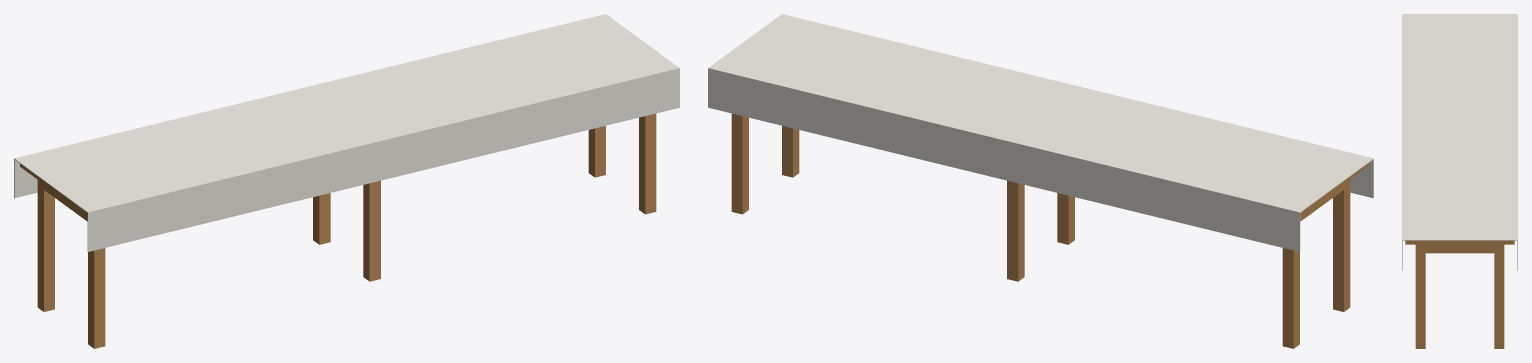
The picture shows the model from 3 angles, left to right: view 1: azimuth 30°, elevation 25°; view 2: azimuth 150°, elevation 25°; view 3: azimuth 270°, elevation 25°; orthographic projection. The views are drawn at different scales.
Visible parts, largest first — view 1: parametric-variant-table-2nd-pub-de2fb1fbe3a513f5dbfa; view 2: parametric-variant-table-2nd-pub-de2fb1fbe3a513f5dbfa; view 3: parametric-variant-table-2nd-pub-de2fb1fbe3a513f5dbfa.
Boxes of the visible parts, x1,y1,x2,y2 form: parametric-variant-table-2nd-pub-de2fb1fbe3a513f5dbfa: (14, 14, 679, 348); parametric-variant-table-2nd-pub-de2fb1fbe3a513f5dbfa: (708, 14, 1373, 348); parametric-variant-table-2nd-pub-de2fb1fbe3a513f5dbfa: (1402, 14, 1517, 348).
Size of the model in its own units: 3.19 by 0.754 by 0.69.
